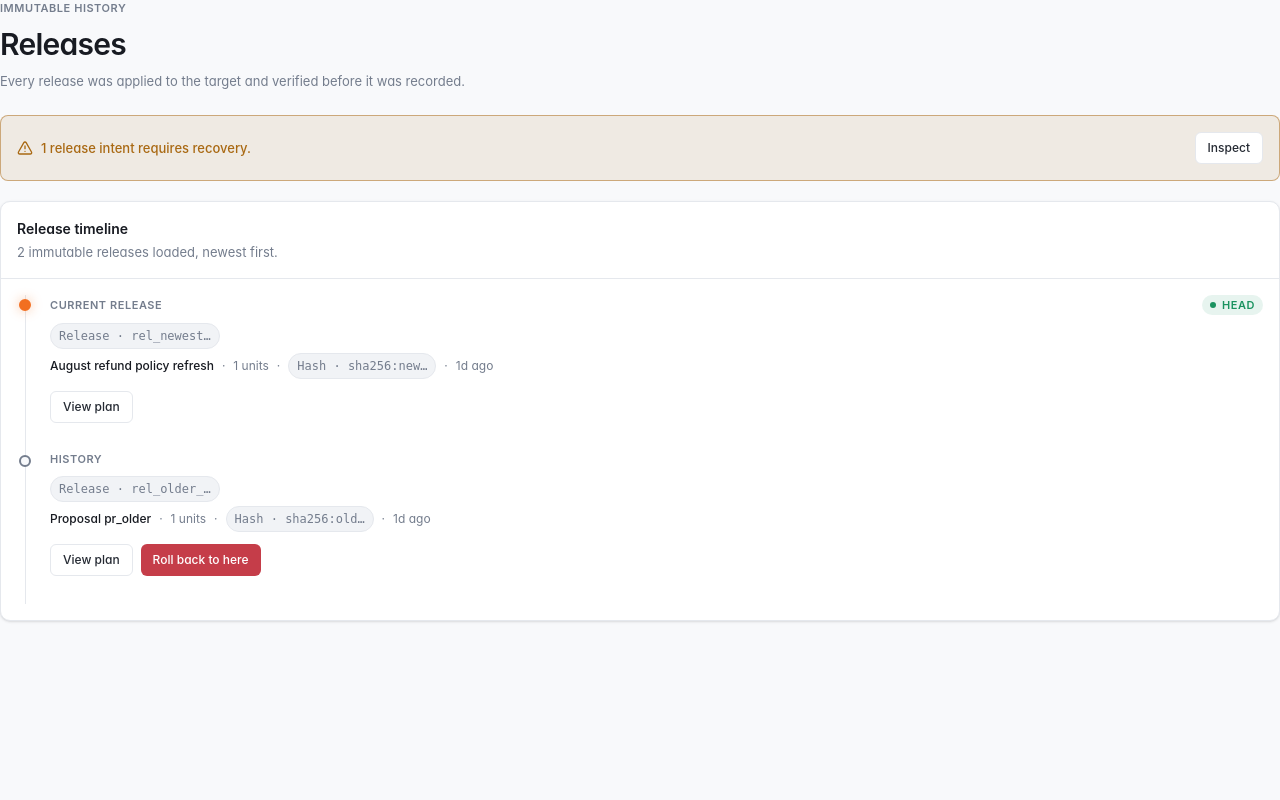
it: ReleasesPage › shows recovery only for recovery-required intents and opens inspection
The width and height of the screenshot is (1280, 800).
Expected: the message shows "1 release intent requires recovery.", [41, 140, 251, 156]
Click the button "Inspect": {"x": 1229, "y": 148} [1195, 132, 1263, 164]
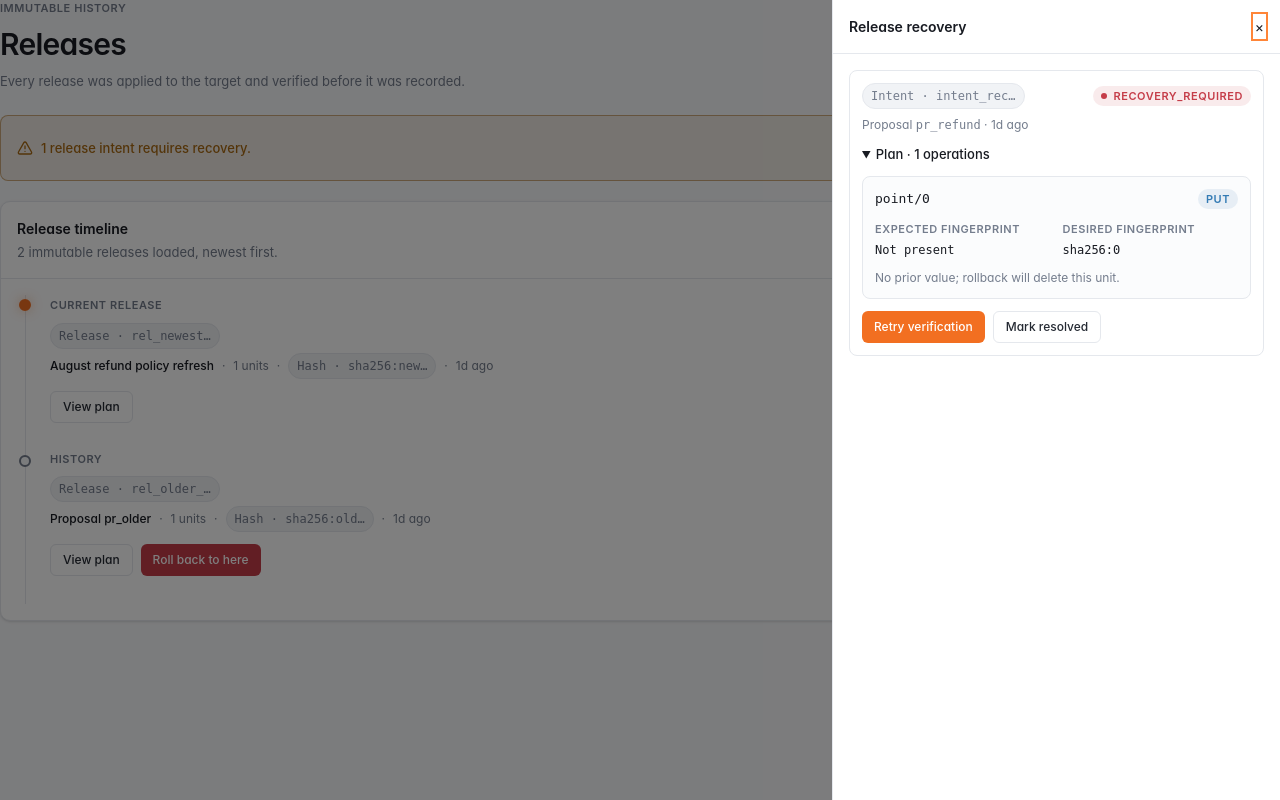
Expected: the dialog "Release recovery" shows "Retry verification", [862, 311, 985, 343]
